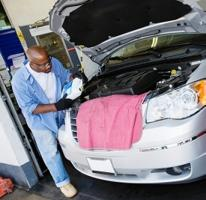person: (10, 45, 86, 199)
